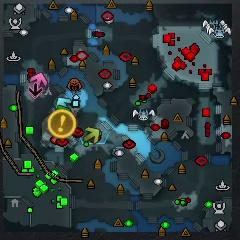Other: (48, 109, 76, 138)
x1: (31, 71, 47, 89)
x1Clone: (29, 83, 43, 97)
x2: (83, 126, 100, 144)
x3: (55, 97, 72, 106)
x4: (56, 105, 71, 112)
